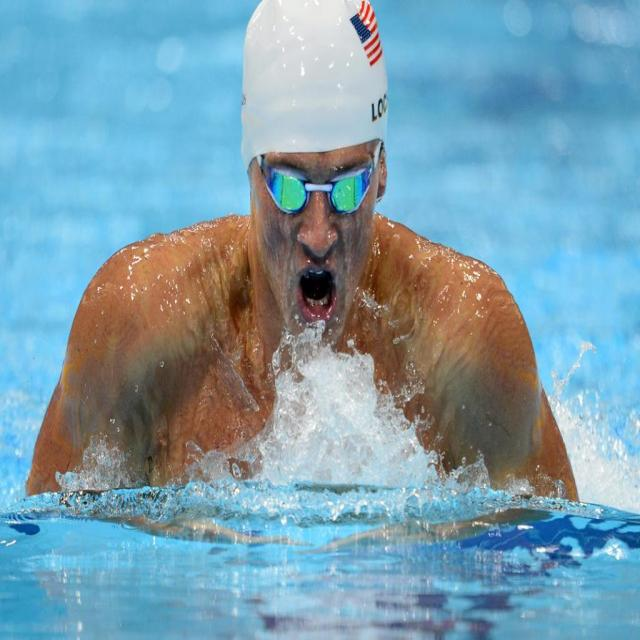Face: (234, 131, 393, 349)
